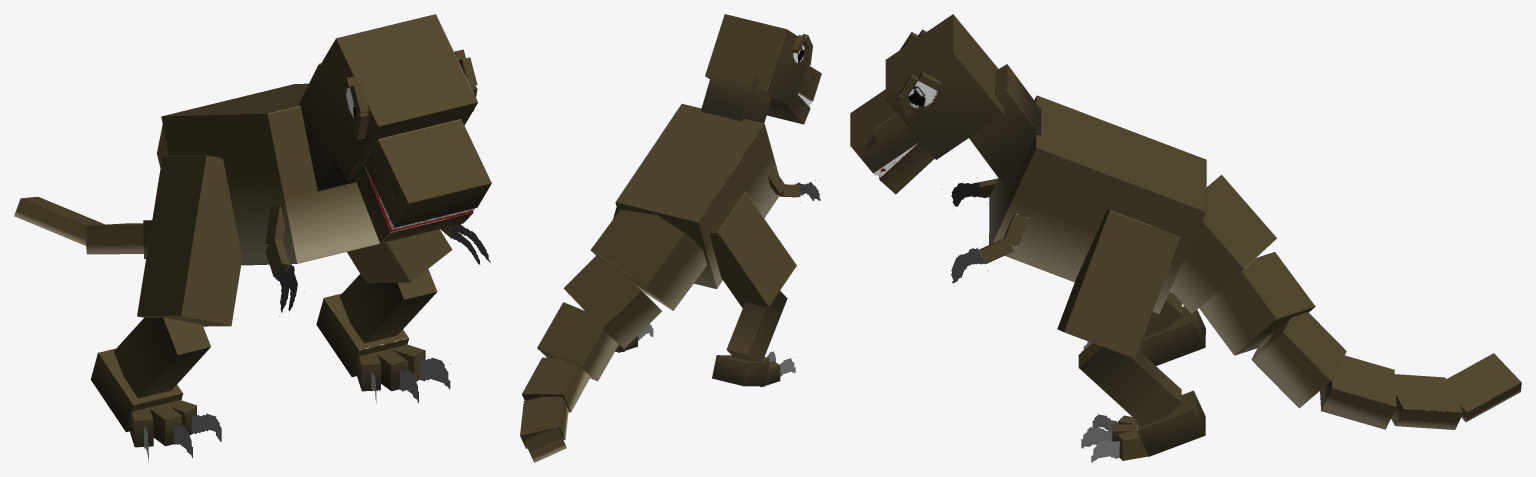
Rendered from animateddinosaur30.obj.
The picture shows the model from 3 angles, left to right: view 1: azimuth 30°, elevation 25°; view 2: azimuth 150°, elevation 25°; view 3: azimuth 270°, elevation 25°; orthographic projection. The views are drawn at different scales.
Parts seen in each view (by area): view 1: Object_6, Object_64, Object_9, Object_56, Object_12, Object_34, Object_31, Object_37, Object_15, Object_79, Object_107, Object_53 (+11 smaller); view 2: Object_6, Object_92, Object_9, Object_64, Object_95, Object_98, Object_53, Object_12, Object_101, Object_104, Object_15, Object_107 (+2 smaller); view 3: Object_6, Object_31, Object_64, Object_92, Object_95, Object_98, Object_34, Object_53, Object_101, Object_56, Object_104, Object_107 (+5 smaller).
Boxes of the visible parts, box(x1,y1,x2,y2) form: Object_6: box(161, 83, 379, 265); Object_64: box(304, 14, 477, 179); Object_9: box(137, 155, 242, 326); Object_56: box(363, 119, 491, 227); Object_12: box(114, 317, 210, 398); Object_34: box(339, 269, 437, 343); Object_31: box(347, 229, 452, 283); Object_37: box(316, 293, 408, 377); Object_15: box(90, 348, 183, 432); Object_79: box(355, 164, 473, 243); Object_107: box(14, 196, 104, 245); Object_53: box(298, 63, 355, 191); Object_6: box(615, 103, 779, 288); Object_92: box(590, 209, 706, 310); Object_9: box(709, 191, 796, 308); Object_64: box(705, 14, 812, 107); Object_95: box(563, 255, 661, 348); Object_98: box(537, 302, 618, 381); Object_53: box(700, 66, 771, 123); Object_12: box(726, 290, 787, 361); Object_101: box(522, 357, 590, 412); Object_104: box(520, 396, 568, 448); Object_15: box(712, 355, 769, 386); Object_107: box(524, 427, 566, 462); Object_6: box(989, 95, 1206, 314); Object_31: box(1057, 209, 1180, 358); Object_64: box(885, 14, 1003, 159); Object_92: box(1170, 174, 1276, 314); Object_95: box(1199, 252, 1315, 355); Object_98: box(1251, 312, 1346, 408); Object_34: box(1078, 343, 1181, 425); Object_53: box(969, 64, 1041, 192); Object_101: box(1320, 355, 1396, 429); Object_56: box(850, 89, 920, 173); Object_104: box(1391, 374, 1463, 429); Object_107: box(1446, 353, 1521, 421).
Size of the model in its own units: 2.26 by 3.37 by 5.46.
